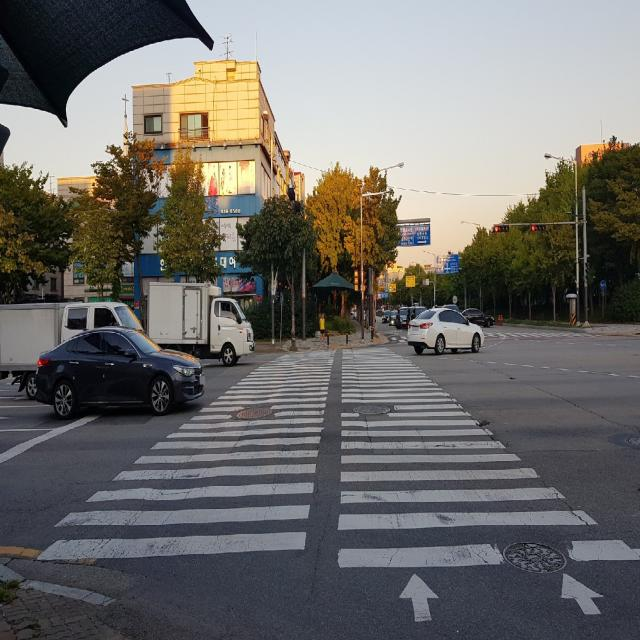횡단보도: (35, 346, 640, 625)
